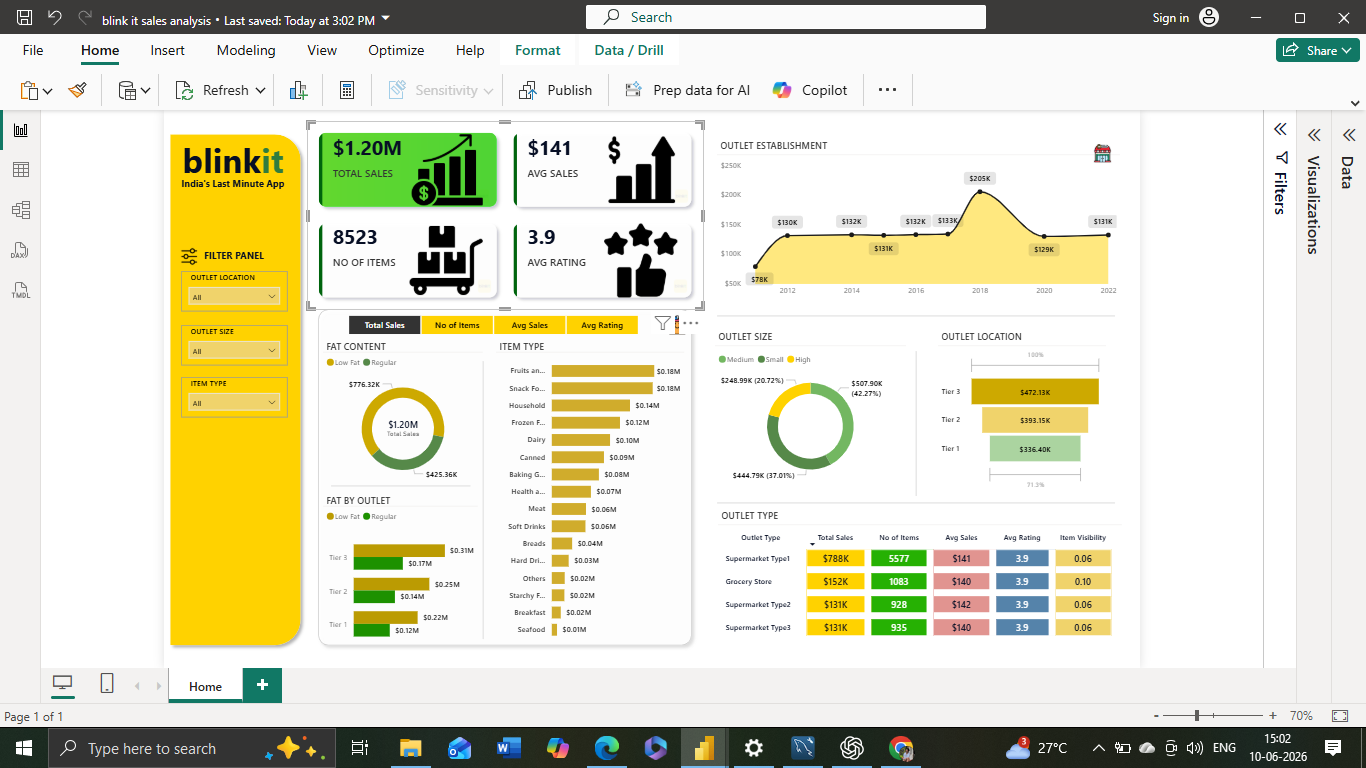

The page's visual inventory and layout, read from the dashboard file:
{"tool":"powerbi","page":{"name":"Home","canvas":[1400,800],"ordinal":0},"visuals":[{"type":"shape","box":[0,25.3,205,750.7],"z":0},{"type":"textbox","box":[0,33,198.1,82.1],"z":1000},{"type":"cardVisual","fields":{"Data":["BlinkIT Grocery Data.Total Sum Sales","BlinkIT Grocery Data.Average Sales","BlinkIT Grocery Data.No of Items","BlinkIT Grocery Data.Avg Rating"]},"box":[204.8,15.8,569.7,270.8],"z":2000},{"type":"areaChart","title":"OUTLET ESTABLISHMENT","fields":{"Y":["BlinkIT Grocery Data.Total Sum Sales"],"Category":["BlinkIT Grocery Data.Outlet Establishment Year2"]},"box":[793.3,42.2,578.1,234.8],"z":7000},{"type":"textbox","box":[0,89.6,198.1,34],"z":8000},{"type":"donutChart","title":"OUTLET SIZE","fields":{"Category":["BlinkIT Grocery Data.Outlet Size"],"Y":["BlinkIT Grocery Data.Total Sum Sales"]},"box":[790.6,316,273.6,224.5],"z":9000},{"type":"funnel","title":"OUTLET LOCATION","fields":{"Category":["BlinkIT Grocery Data.Outlet Location Type"],"Y":["BlinkIT Grocery Data.Total Sum Sales"]},"box":[1110.4,316,240.6,234],"z":10000},{"type":"pivotTable","title":"OUTLET TYPE","fields":{"Rows":["BlinkIT Grocery Data.Outlet Type"],"Values":["BlinkIT Grocery Data.Total Sum Sales","BlinkIT Grocery Data.No of Items","BlinkIT Grocery Data.Average Sales","BlinkIT Grocery Data.Avg Rating","Avg(BlinkIT Grocery Data.Item Visibility)"]},"box":[793.6,572.3,578.7,197.1],"z":11000},{"type":"shape","box":[793.4,284.9,570.8,19.8],"z":12000},{"type":"shape","box":[1064.2,346.2,29.2,208.5],"z":13000},{"type":"shape","box":[212.8,276.6,553.2,500],"z":14000},{"type":"donutChart","title":"FAT CONTENT","fields":{"Y":["BlinkIT Grocery Data.Total Sum Sales"],"Category":["BlinkIT Grocery Data.Item Fat Content"]},"box":[228.3,330.2,229.2,213.2],"z":15000},{"type":"shape","box":[793.4,553.8,570.8,19.8],"z":16000},{"type":"cardVisual","fields":{"Data":["BlinkIT Grocery Data.Total Sum Sales"]},"box":[291.9,428.1,102,54.5],"z":17000},{"type":"slicer","fields":{"Values":["Metric.Metric"]},"box":[240,287.5,464.2,39.6],"z":18000},{"type":"barChart","title":"ITEM TYPE","fields":{"Y":["BlinkIT Grocery Data.Total Sum Sales"],"Category":["BlinkIT Grocery Data.Item Type"]},"box":[475.3,330.2,269.8,438.1],"z":19000},{"type":"shape","box":[442.5,360.4,29.2,399.1],"z":20000},{"type":"clusteredBarChart","title":"FAT BY OUTLET","fields":{"Y":["BlinkIT Grocery Data.Total Sum Sales"],"Category":["BlinkIT Grocery Data.Outlet Location Type"],"Series":["BlinkIT Grocery Data.Item Fat Content"]},"box":[228.3,550.9,221.7,229.2],"z":21000},{"type":"shape","box":[239.6,529.2,200,19.8],"z":22000},{"type":"image","box":[725.5,108.5,33,29.2],"z":23000},{"type":"image","box":[723.6,237.7,33,29.2],"z":24000},{"type":"image","box":[442.5,237.7,33,29.2],"z":25000},{"type":"image","box":[440.6,108.5,33,29.2],"z":26000},{"type":"image","box":[715.6,289.2,41.3,36.9],"z":27000},{"type":"image","box":[1327.7,33.1,36.1,57.2],"z":28000},{"type":"slicer","fields":{"Values":["BlinkIT Grocery Data.Outlet Location Type"]},"box":[23.7,231.2,153,58],"z":29000},{"type":"slicer","fields":{"Values":["BlinkIT Grocery Data.Outlet Size"]},"box":[23.7,307.7,153,58],"z":30000},{"type":"slicer","fields":{"Values":["BlinkIT Grocery Data.Item Type"]},"box":[23.7,382.4,153,58],"z":31000},{"type":"textbox","box":[36.8,193.4,126.4,31.1],"z":32000},{"type":"image","box":[18.9,184,34.9,53.8],"z":33000}]}

Visuals, with their boxes on the page's 1400x800 design canvas (x1, y1, x2, y2). These are canvas units, not pixel positions in the 1366x768 screenshot, which may show the page scaled, cropped or inside an application window:
shape: x1=0 y1=25 x2=205 y2=776
textbox: x1=0 y1=33 x2=198 y2=115
cardVisual - BlinkIT Grocery Data.Total Sum Sales x BlinkIT Grocery Data.Average Sales: x1=205 y1=16 x2=774 y2=287
"OUTLET ESTABLISHMENT" areaChart: x1=793 y1=42 x2=1371 y2=277
textbox: x1=0 y1=90 x2=198 y2=124
"OUTLET SIZE" donutChart: x1=791 y1=316 x2=1064 y2=540
"OUTLET LOCATION" funnel: x1=1110 y1=316 x2=1351 y2=550
"OUTLET TYPE" pivotTable: x1=794 y1=572 x2=1372 y2=769
shape: x1=793 y1=285 x2=1364 y2=305
shape: x1=1064 y1=346 x2=1093 y2=555
shape: x1=213 y1=277 x2=766 y2=777
"FAT CONTENT" donutChart: x1=228 y1=330 x2=458 y2=543
shape: x1=793 y1=554 x2=1364 y2=574
cardVisual - BlinkIT Grocery Data.Total Sum Sales: x1=292 y1=428 x2=394 y2=483
slicer - Metric.Metric: x1=240 y1=288 x2=704 y2=327
"ITEM TYPE" barChart: x1=475 y1=330 x2=745 y2=768
shape: x1=442 y1=360 x2=472 y2=760
"FAT BY OUTLET" clusteredBarChart: x1=228 y1=551 x2=450 y2=780
shape: x1=240 y1=529 x2=440 y2=549
image: x1=726 y1=108 x2=758 y2=138
image: x1=724 y1=238 x2=757 y2=267
image: x1=442 y1=238 x2=476 y2=267
image: x1=441 y1=108 x2=474 y2=138
image: x1=716 y1=289 x2=757 y2=326
image: x1=1328 y1=33 x2=1364 y2=90
slicer - BlinkIT Grocery Data.Outlet Location Type: x1=24 y1=231 x2=177 y2=289
slicer - BlinkIT Grocery Data.Outlet Size: x1=24 y1=308 x2=177 y2=366
slicer - BlinkIT Grocery Data.Item Type: x1=24 y1=382 x2=177 y2=440
textbox: x1=37 y1=193 x2=163 y2=224
image: x1=19 y1=184 x2=54 y2=238
